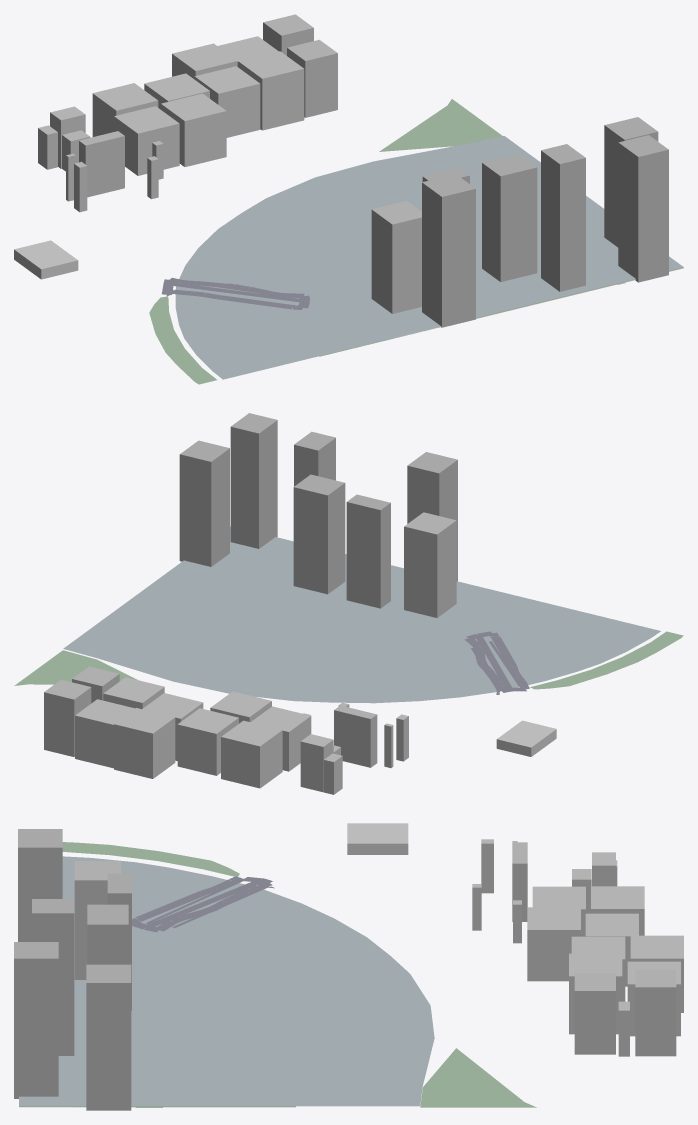
The model's file is 121_81_mid.glb.
The picture shows the model from 3 angles, top to bottom: view 1: azimuth 30°, elevation 25°; view 2: azimuth 150°, elevation 25°; view 3: azimuth 270°, elevation 25°; orthographic projection. The views are drawn at different scales.
Size of the model in its own units: 502 by 126 by 521.
